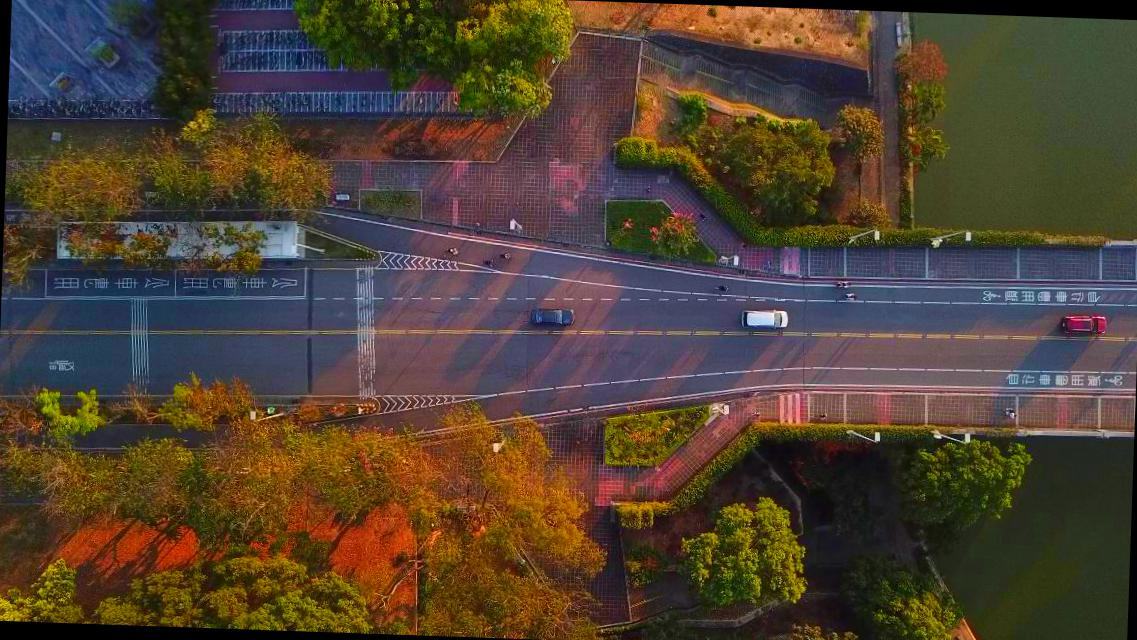vehicle: (740, 308, 787, 331), (1058, 314, 1106, 336), (528, 306, 574, 326)
